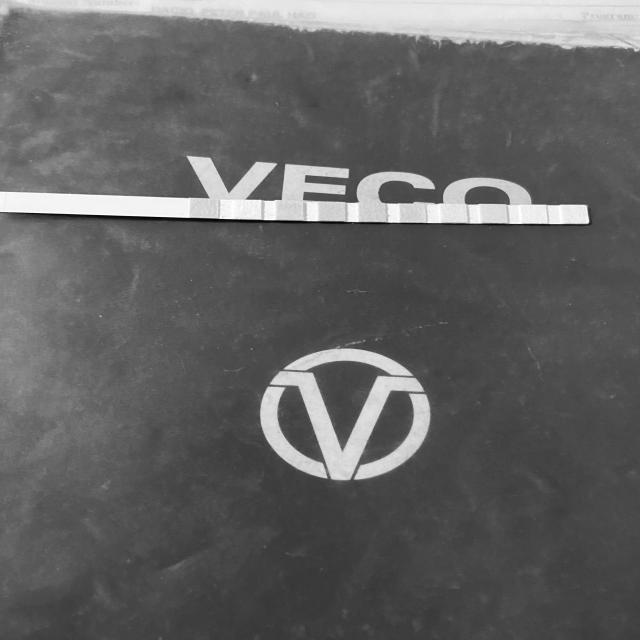Bilirubin: (236, 202, 260, 218)
Blood: (359, 204, 385, 221)
Glucose: (191, 200, 217, 217)
Ketone: (277, 202, 302, 220)
Leukocytes: (562, 206, 586, 224)
Nitrite: (522, 207, 546, 223)
Protein: (442, 206, 466, 222)
SpGravity: (320, 204, 344, 220)
Urobilinogen: (482, 205, 506, 223)
background: (0, 0, 640, 640)
pH: (402, 205, 425, 222)
strip: (0, 192, 590, 225)
